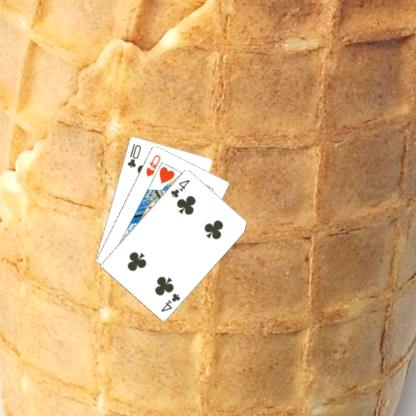10C: (125, 141, 142, 169)
4C: (158, 290, 181, 313), (168, 177, 191, 199)
QH: (143, 152, 162, 178)
